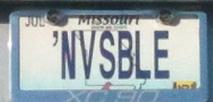B: (117, 30, 134, 80)
E: (152, 29, 172, 80)
L: (135, 30, 153, 79)
N: (60, 30, 79, 82)
S: (98, 30, 117, 79)
V: (78, 29, 96, 80)
